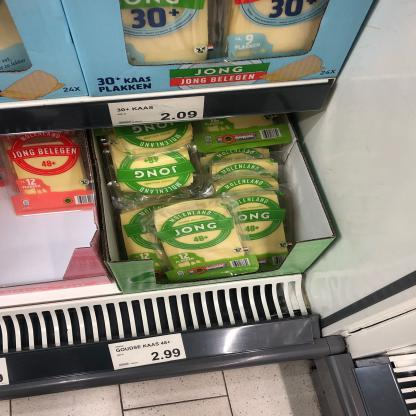prtg: (109, 97, 206, 127), (109, 334, 187, 371), (1, 359, 10, 387)
